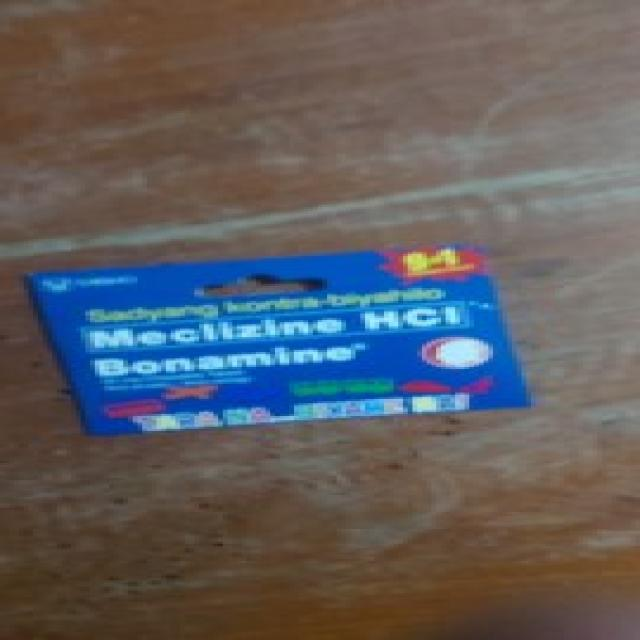Cacat: (19, 239, 533, 437)
